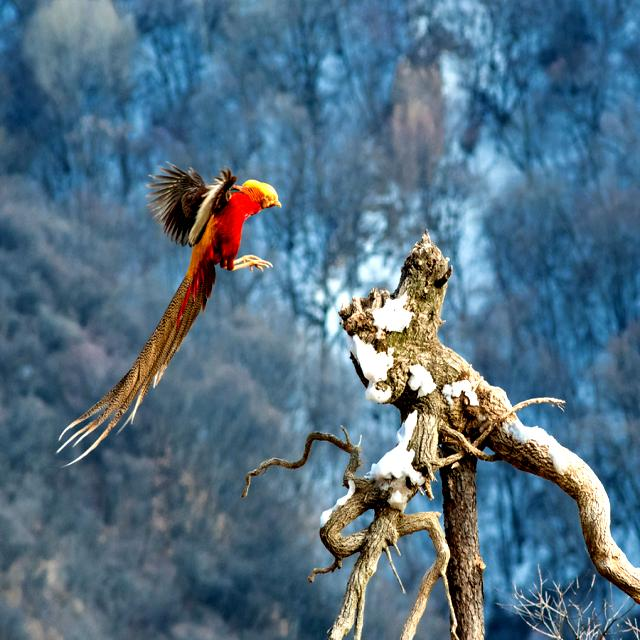Chrysolophus pictus feather: (65, 265, 215, 456)
